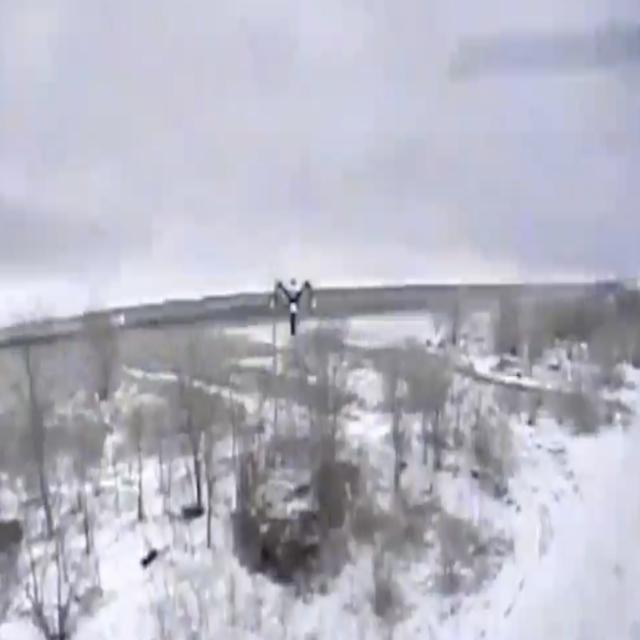vehicle: (241, 457, 323, 581)
